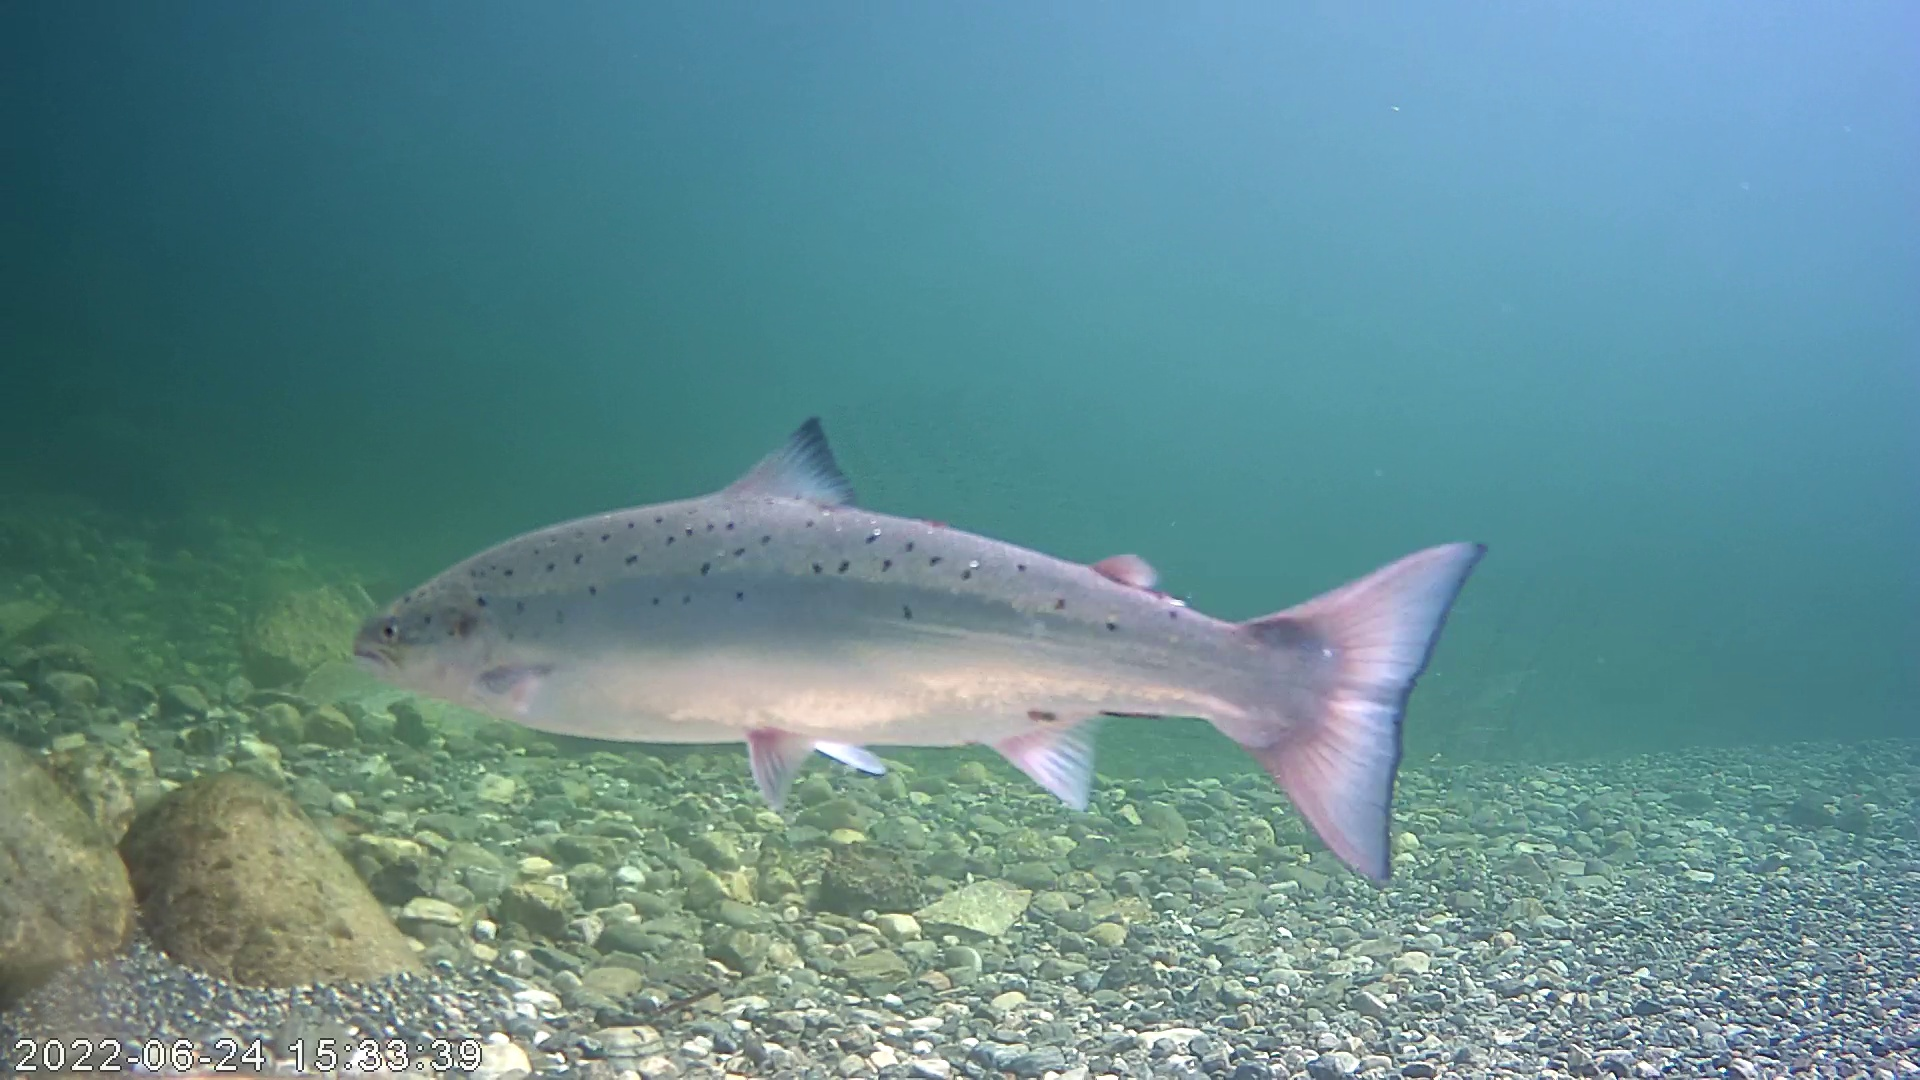salmon: (351, 414, 1487, 897)
